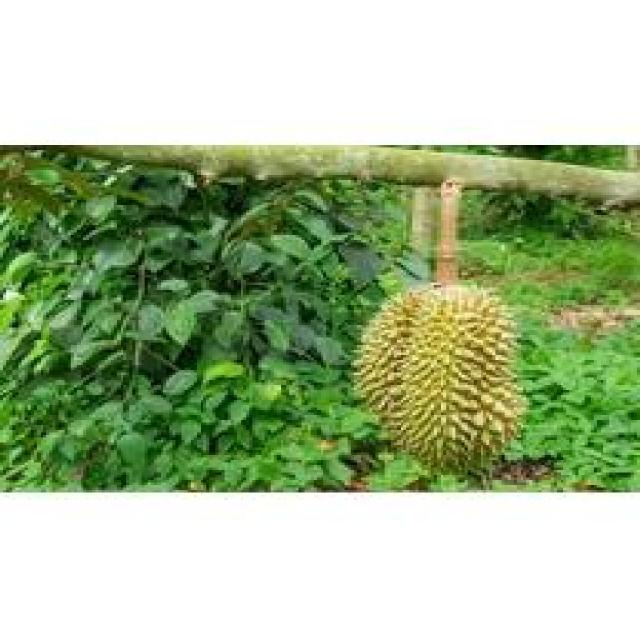fruit: (344, 270, 536, 485)
